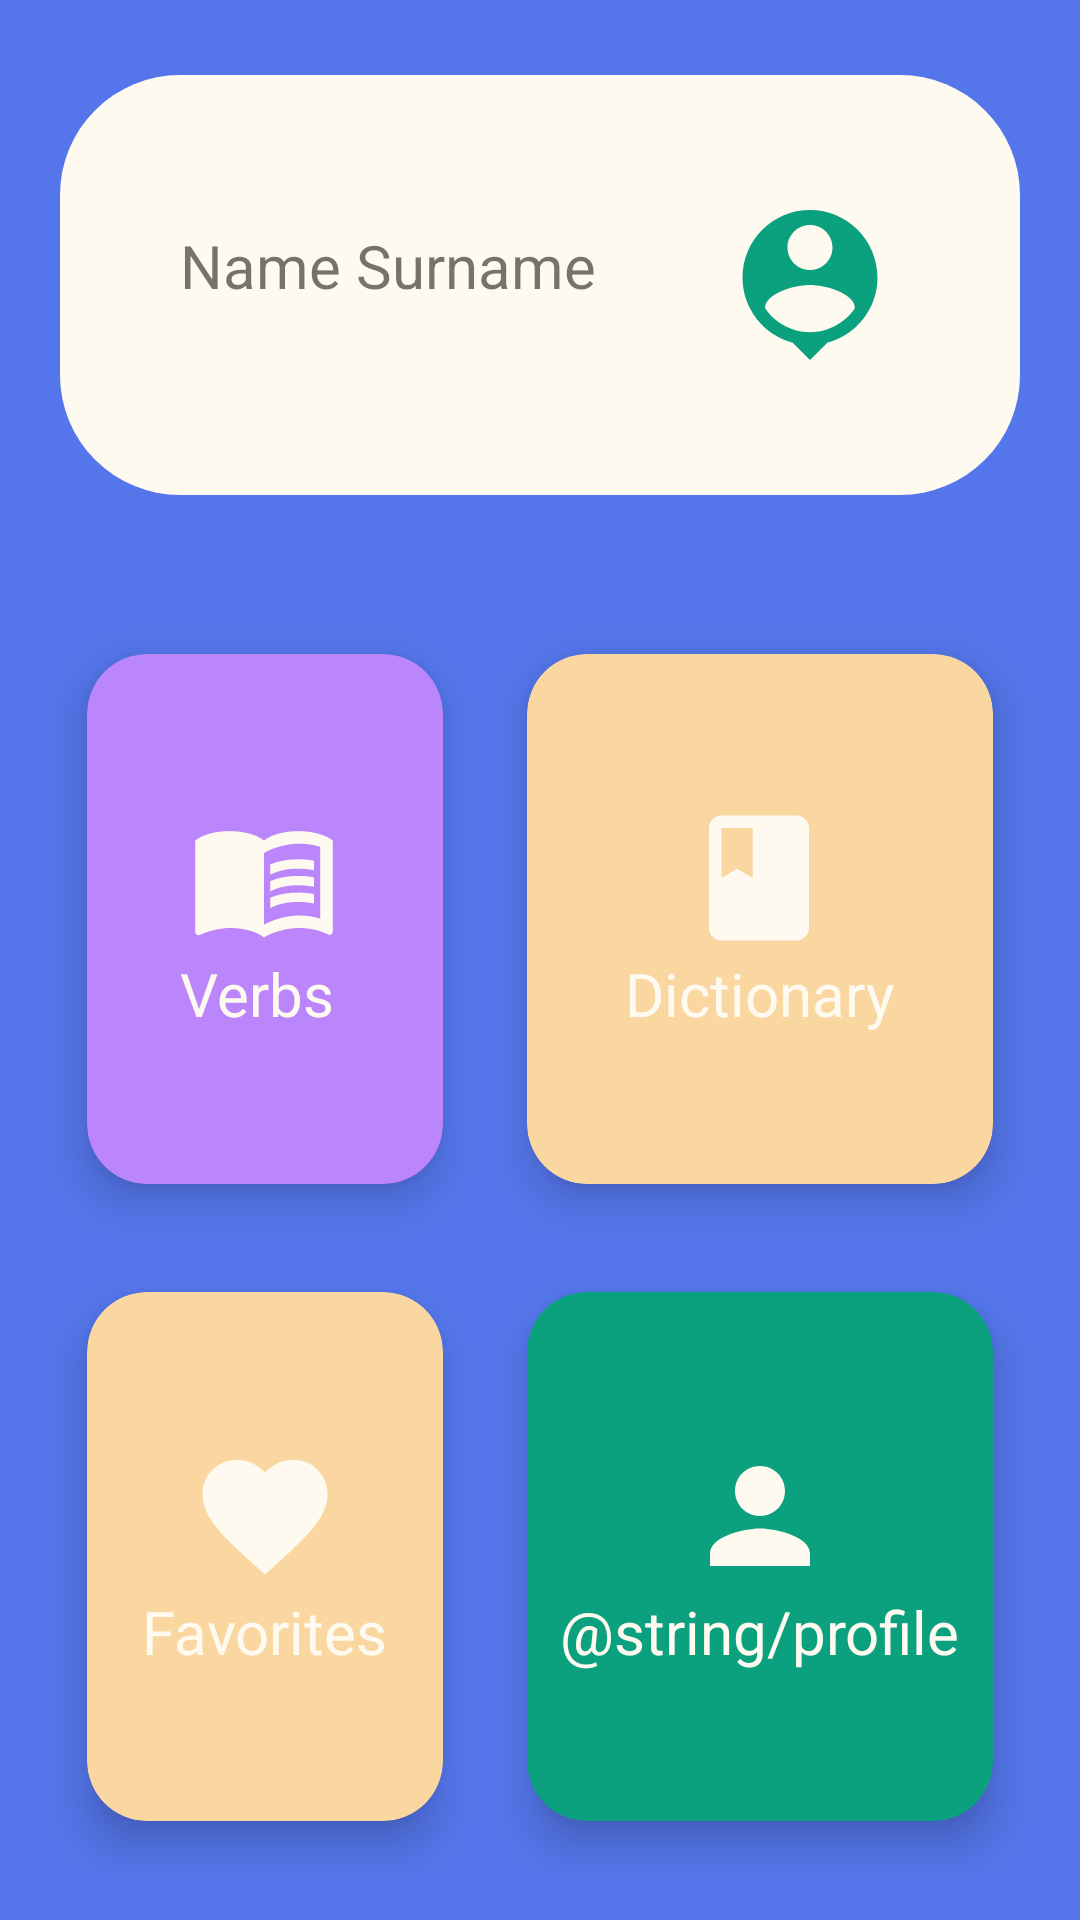

Named icons in this screenshot (1080*1920) and their bounding boxes, bbox(x1, y1, x2, y2):
book: bbox(709, 815, 809, 941), bbox(195, 831, 333, 937)
person: bbox(710, 1466, 810, 1566)
person pin: bbox(742, 210, 878, 360)
